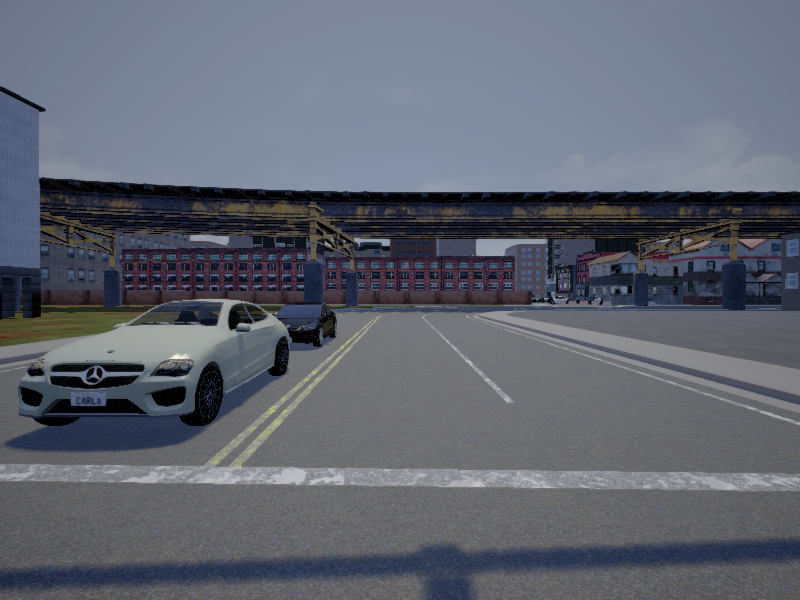Benign: (14, 299, 291, 425), (272, 304, 338, 347)
